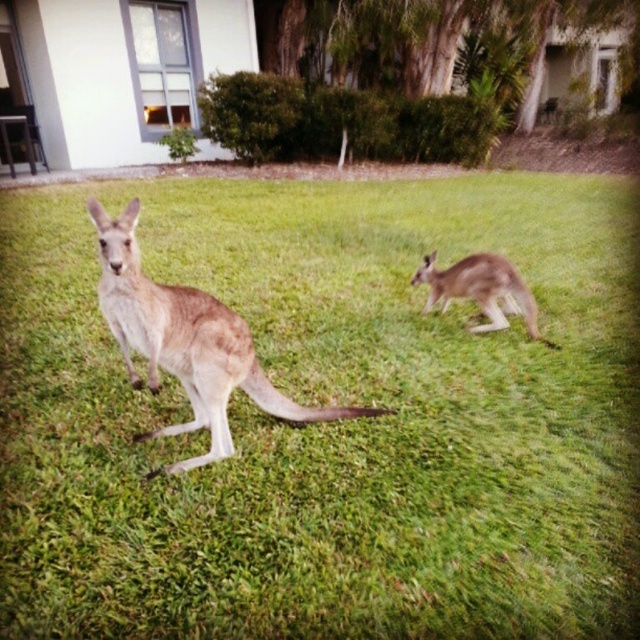Kangaroo: (89, 200, 398, 476), (409, 251, 564, 350)
